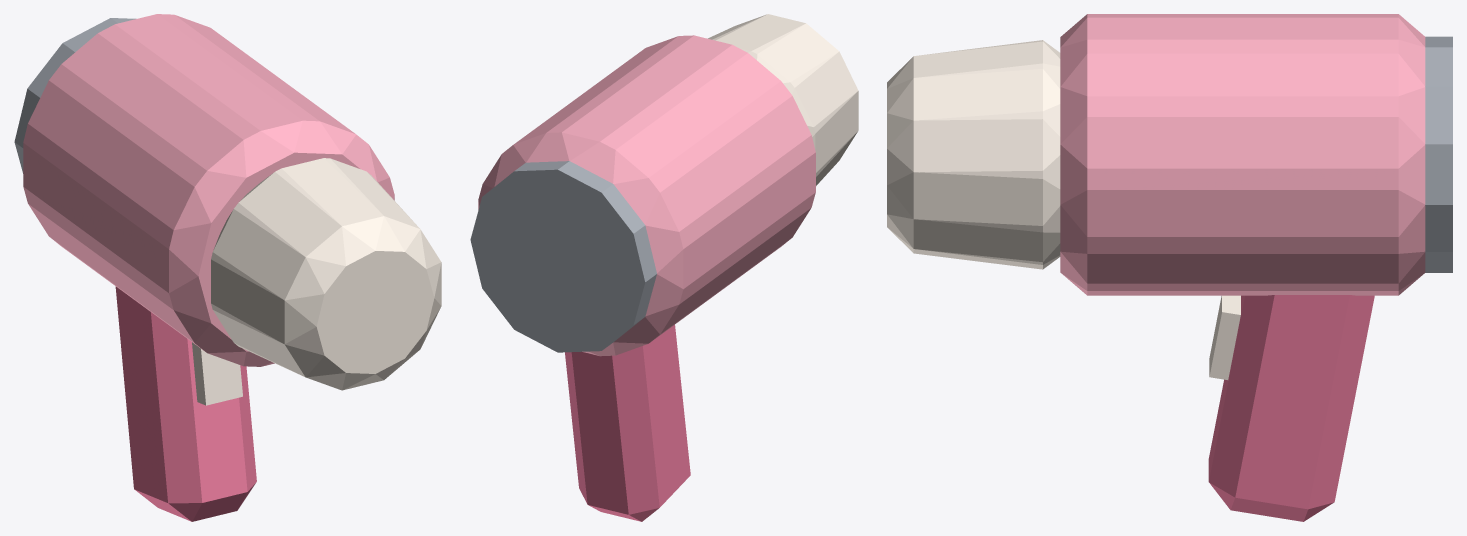
File: CleanACat_Tool_Dryer.fbx
3 views of the same model, side by side, from view 1: azimuth 30°, elevation 25°; view 2: azimuth 150°, elevation 25°; view 3: azimuth 270°, elevation 25° (orthographic). The views are drawn at different scales.
Visible parts, largest first — view 1: CleanACat_Tool_Dryer; view 2: CleanACat_Tool_Dryer; view 3: CleanACat_Tool_Dryer.
Boxes of the visible parts, box(x1,y1,x2,y2) form: CleanACat_Tool_Dryer: box(14, 14, 441, 521); CleanACat_Tool_Dryer: box(470, 14, 858, 521); CleanACat_Tool_Dryer: box(887, 14, 1452, 521).
Bounding box in the file's own units: 0.6096 × 1.16 × 1.24.
1 material, 1 textured.
